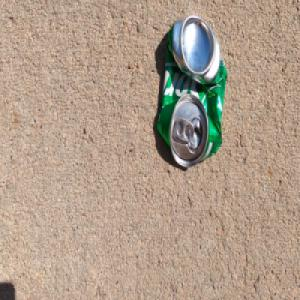SodaCan: (154, 16, 226, 172)
